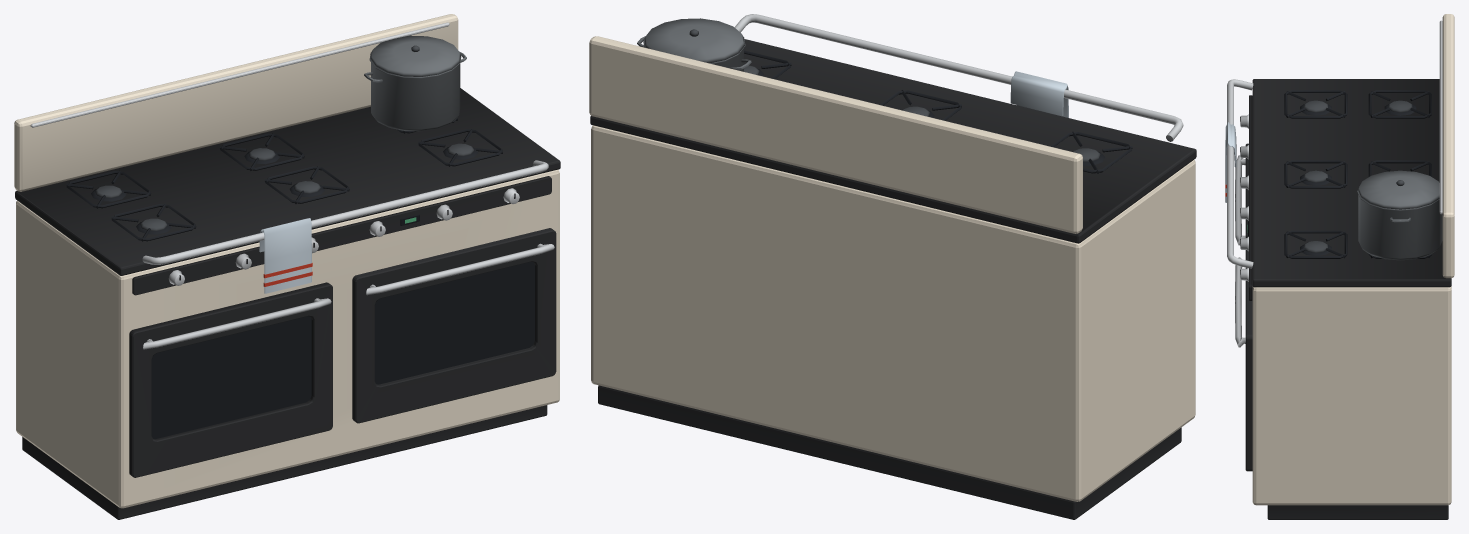
File: rangeCooker.glb
3 views of the same model, side by side, from view 1: azimuth 30°, elevation 25°; view 2: azimuth 150°, elevation 25°; view 3: azimuth 270°, elevation 25° (orthographic). The views are drawn at different scales.
Visible parts, largest first — view 1: body, oven_door; view 2: body; view 3: body, oven_door.
Boxes of the visible parts, x1,y1,x2,y2 form: body: (14, 14, 560, 519); oven_door: (352, 228, 556, 423); body: (589, 14, 1196, 519); body: (1225, 14, 1454, 519); oven_door: (1235, 250, 1252, 471).
Size of the model in its own units: 1.58 by 1.14 by 0.7605.
